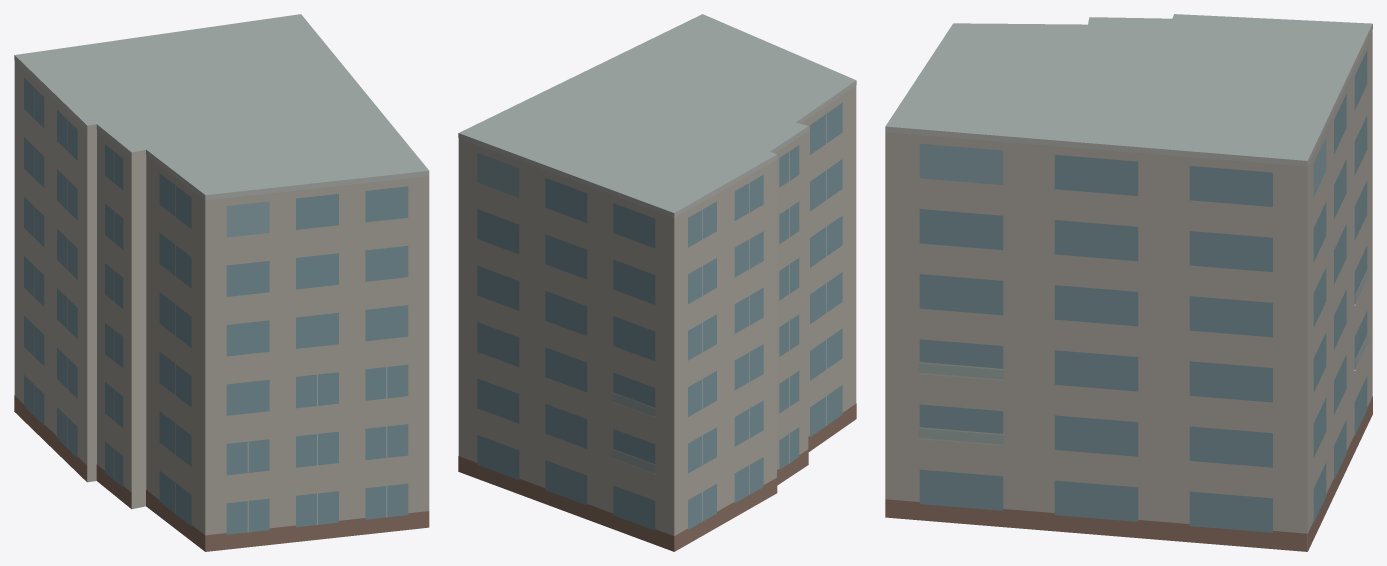
File: survey-upis-32494504.glb
The picture shows the model from 3 angles, left to right: view 1: azimuth 30°, elevation 25°; view 2: azimuth 150°, elevation 25°; view 3: azimuth 270°, elevation 25°; orthographic projection. The views are drawn at different scales.
Parts seen in each view (by area): view 1: survey-upis-32494504.tmp; view 2: survey-upis-32494504.tmp; view 3: survey-upis-32494504.tmp.
Boxes of the visible parts, <box> form: survey-upis-32494504.tmp: <box>14,14,429,551</box>; survey-upis-32494504.tmp: <box>458,14,856,551</box>; survey-upis-32494504.tmp: <box>885,14,1372,551</box>.
Bounding box in the file's own units: 13.43 × 16.65 × 18.82.
